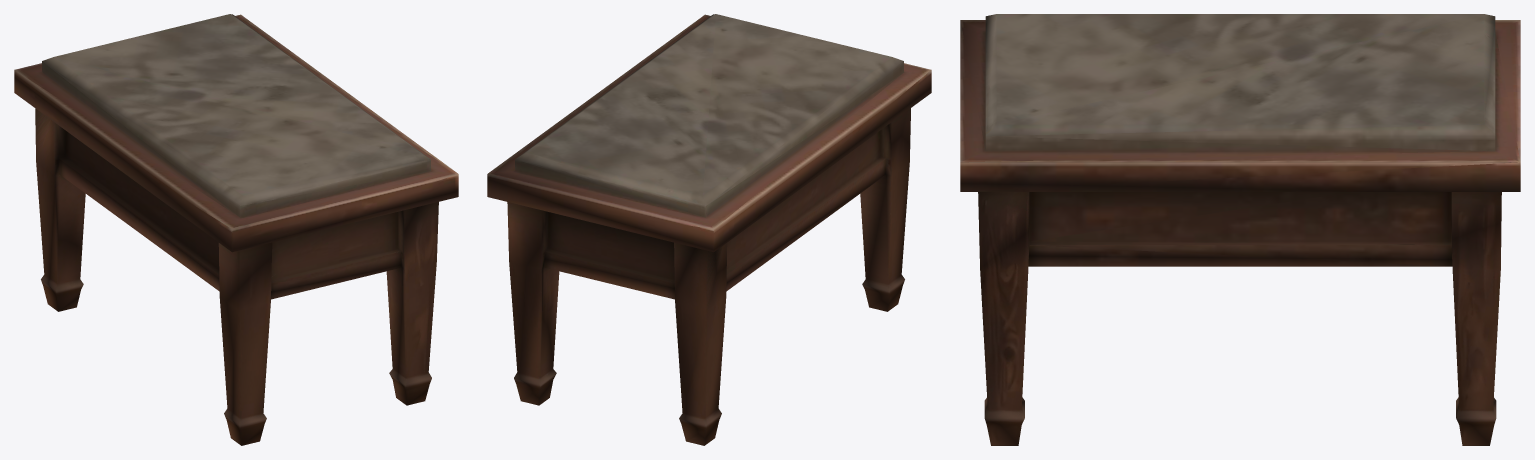
Rendered from Furn_Bench_Piano.glb.
3 renders of one model, left to right at view 1: azimuth 30°, elevation 25°; view 2: azimuth 150°, elevation 25°; view 3: azimuth 270°, elevation 25°, orthographic. The views are drawn at different scales.
Visible parts, largest first — view 1: tripo_node_75124e0c-9f70-4d4a-96c5-81cdc97ca1c7; view 2: tripo_node_75124e0c-9f70-4d4a-96c5-81cdc97ca1c7; view 3: tripo_node_75124e0c-9f70-4d4a-96c5-81cdc97ca1c7.
Boxes of the visible parts, <box> form: tripo_node_75124e0c-9f70-4d4a-96c5-81cdc97ca1c7: <box>14,14,458,445</box>; tripo_node_75124e0c-9f70-4d4a-96c5-81cdc97ca1c7: <box>487,14,931,445</box>; tripo_node_75124e0c-9f70-4d4a-96c5-81cdc97ca1c7: <box>960,14,1520,445</box>.
Size of the model in its own units: 0.4782 by 0.5 by 0.796.
1 material, 1 textured.
